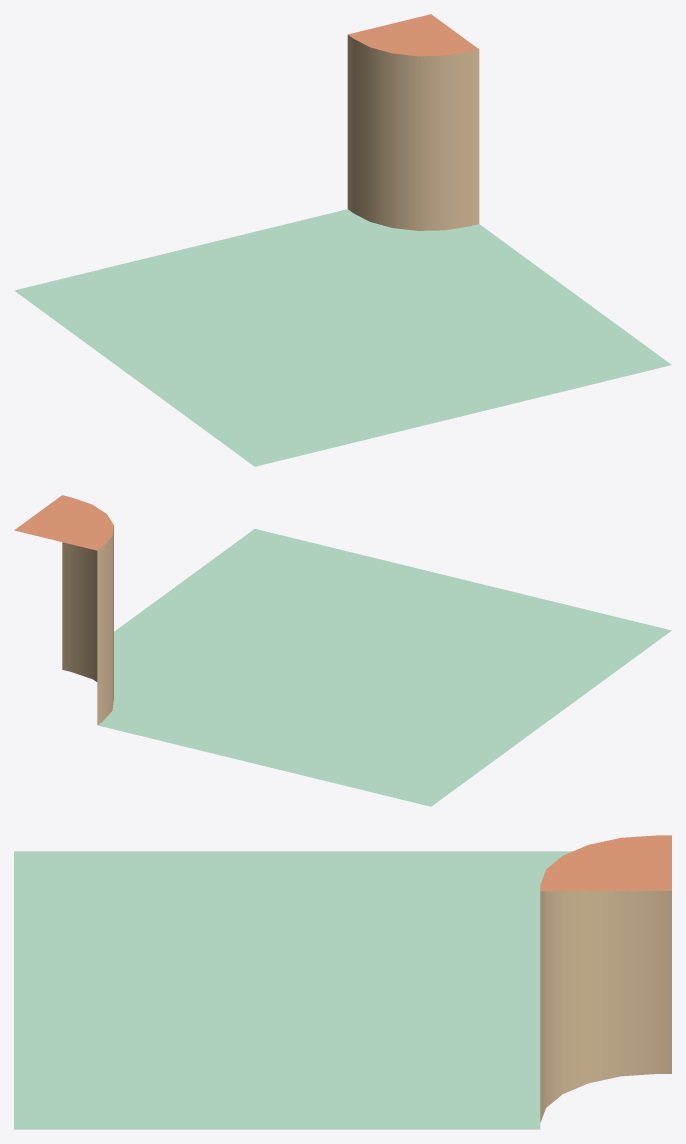
The model's file is SM_Tile_Tips_Single.fbx.
3 renders of one model, top to bottom at view 1: azimuth 30°, elevation 25°; view 2: azimuth 150°, elevation 25°; view 3: azimuth 270°, elevation 25°, orthographic. The views are drawn at different scales.
Parts seen in each view (by area): view 1: SM_Tile_Tips_Single; view 2: SM_Tile_Tips_Single; view 3: SM_Tile_Tips_Single.
Part boxes in pixels (bbox=[...]): SM_Tile_Tips_Single: bbox=[14, 14, 671, 466]; SM_Tile_Tips_Single: bbox=[14, 495, 671, 806]; SM_Tile_Tips_Single: bbox=[14, 835, 671, 1129].
Bounding box in the file's own units: 500 × 200 × 500.
